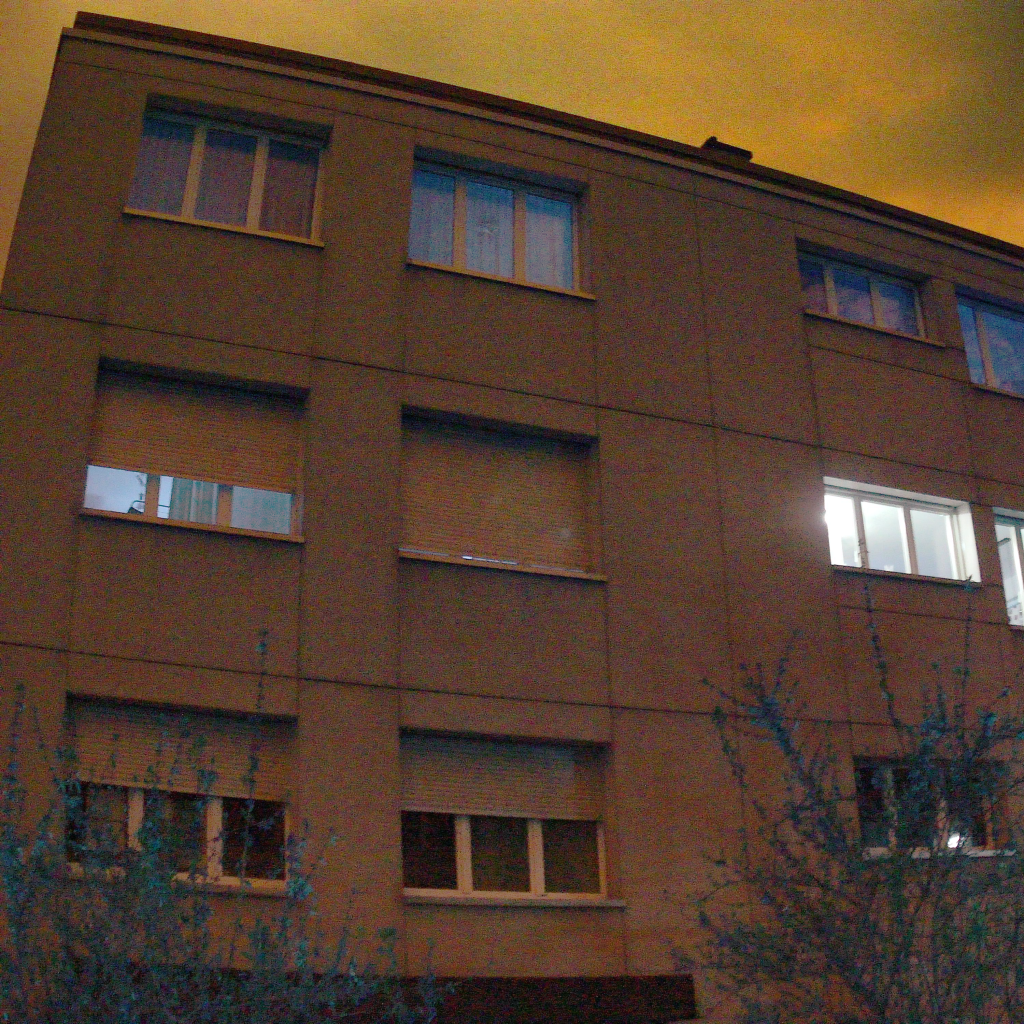glass_panel: (128, 115, 194, 214), (194, 129, 256, 223), (260, 140, 318, 237), (140, 791, 204, 873), (222, 798, 285, 878), (66, 783, 127, 865), (524, 193, 572, 288), (466, 181, 513, 277), (470, 816, 529, 891), (401, 811, 456, 889), (409, 170, 454, 265), (542, 820, 599, 892), (979, 310, 1023, 393), (909, 508, 958, 578), (861, 502, 909, 572), (855, 760, 893, 847), (83, 466, 146, 513), (995, 521, 1023, 624), (232, 485, 290, 533), (158, 476, 217, 523), (825, 493, 861, 566), (875, 279, 919, 334), (833, 267, 873, 323), (958, 302, 985, 383), (799, 259, 827, 312)
